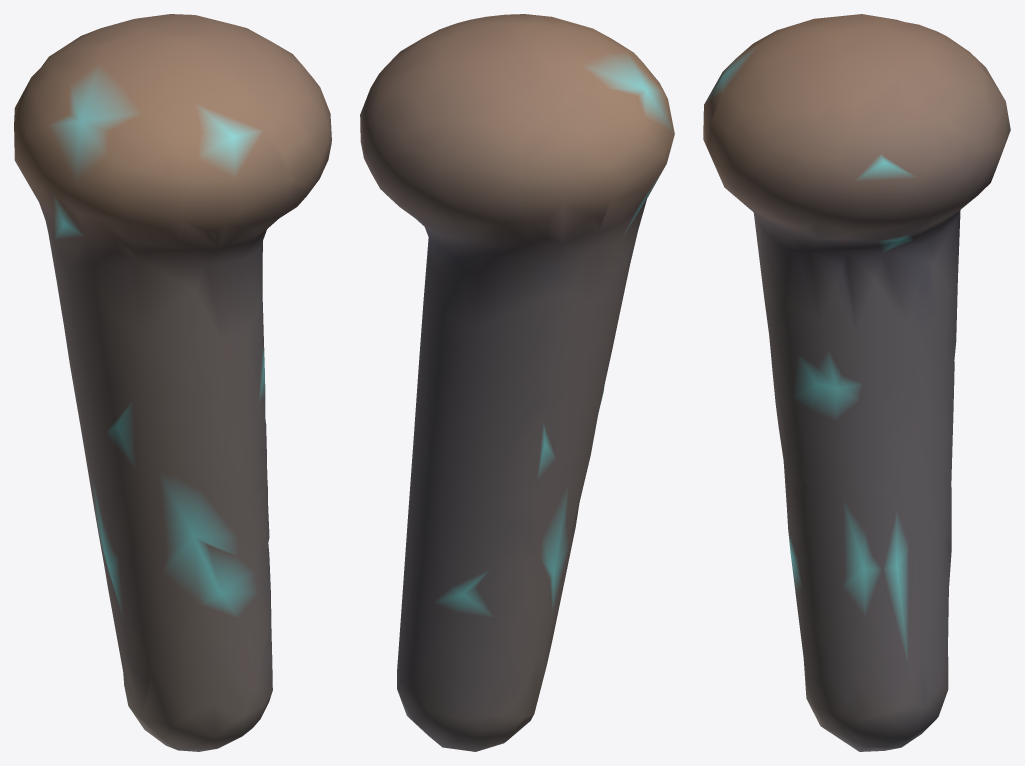
File: husk_uarm_r.glb
The picture shows the model from 3 angles, left to right: view 1: azimuth 30°, elevation 25°; view 2: azimuth 150°, elevation 25°; view 3: azimuth 270°, elevation 25°; orthographic projection. The views are drawn at different scales.
Visible parts, largest first — view 1: geometry_0; view 2: geometry_0; view 3: geometry_0.
Boxes of the visible parts, x1,y1,x2,y2 form: geometry_0: [14, 14, 331, 751]; geometry_0: [360, 14, 674, 751]; geometry_0: [703, 14, 1010, 751].
Size of the model in its own units: 0.3019 by 0.7527 by 0.3021.
